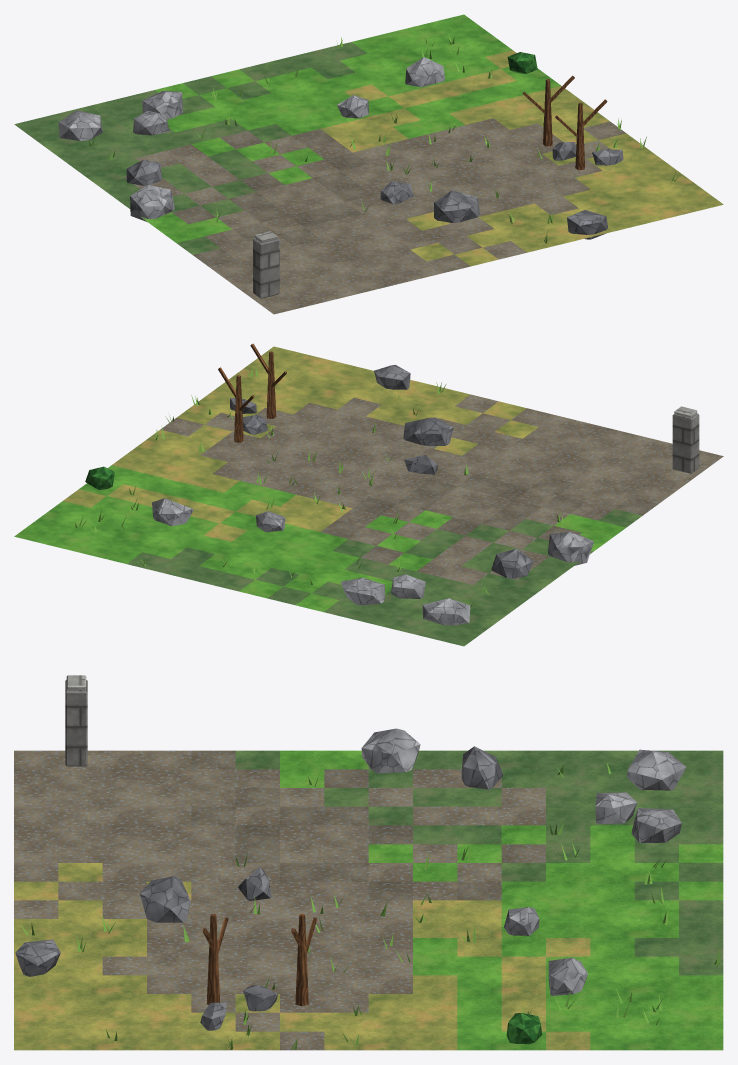
File: chunk_10_16.glb
3 renders of one model, top to bottom at view 1: azimuth 30°, elevation 25°; view 2: azimuth 150°, elevation 25°; view 3: azimuth 270°, elevation 25°, orthographic. The views are drawn at different scales.
Visible parts, largest first — view 1: chunk_10_16; view 2: chunk_10_16; view 3: chunk_10_16.
Part boxes in pixels (box(x1,y1,x2,y2)): chunk_10_16: box(14, 14, 723, 314); chunk_10_16: box(14, 343, 723, 646); chunk_10_16: box(14, 675, 723, 1050).
Bounding box in the file's own units: 16.22 × 2.72 × 16.01.
Materials: 12 (11 with a texture image).
